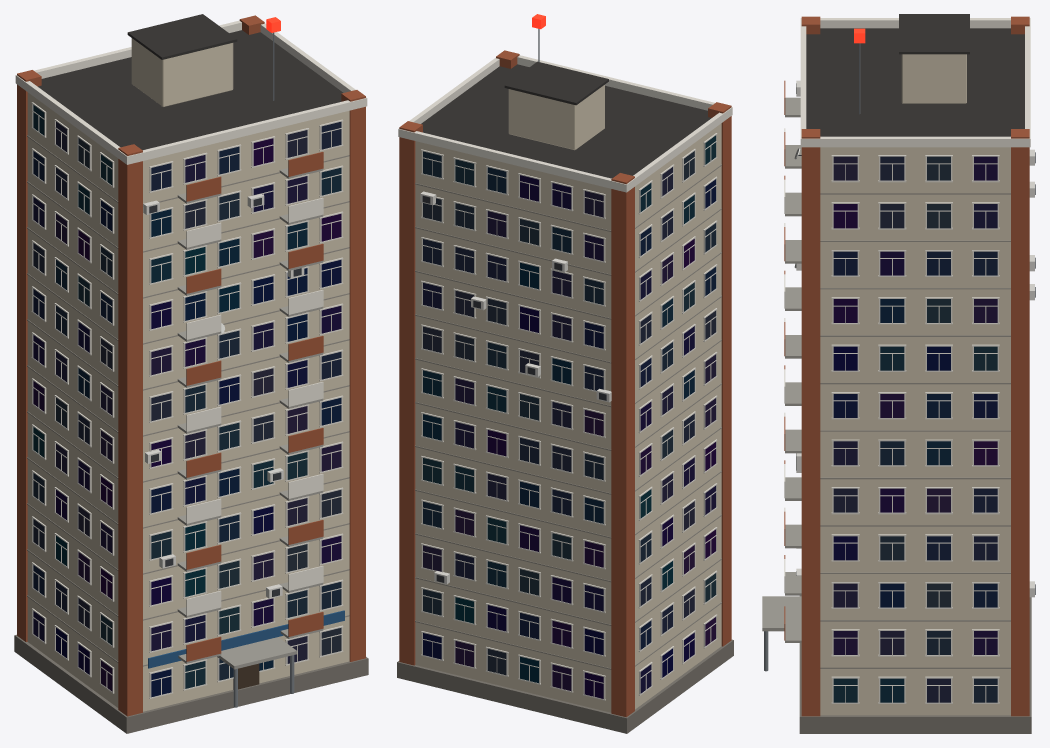
The model's file is tower_b.glb.
The picture shows the model from 3 angles, left to right: view 1: azimuth 30°, elevation 25°; view 2: azimuth 150°, elevation 25°; view 3: azimuth 270°, elevation 25°; orthographic projection. The views are drawn at different scales.
Visible parts, largest first — view 1: tower_b; view 2: tower_b; view 3: tower_b.
Part boxes in pixels (bbox=[...]): tower_b: bbox=[14, 14, 368, 733]; tower_b: bbox=[397, 14, 733, 733]; tower_b: bbox=[762, 14, 1035, 733].
Size of the model in its own units: 15.4 by 39.54 by 14.61.
